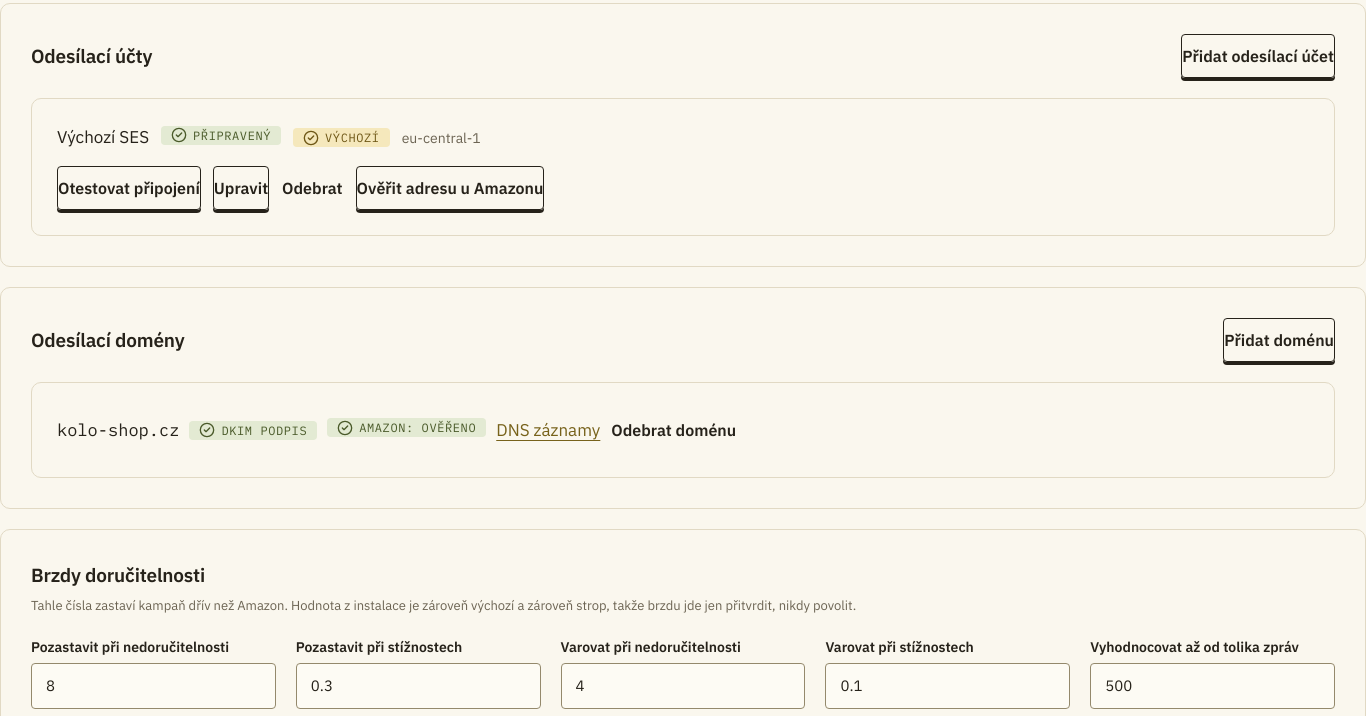
it: obrazovka nastavení odesílání › tlačítko Přidat doménu je i tam, kde už nějaká doména je, a taky otevírá dialog
Click the button with test id "add-domain". click: (1279, 340)
box: [1223, 318, 1335, 362]
(page scrolled)
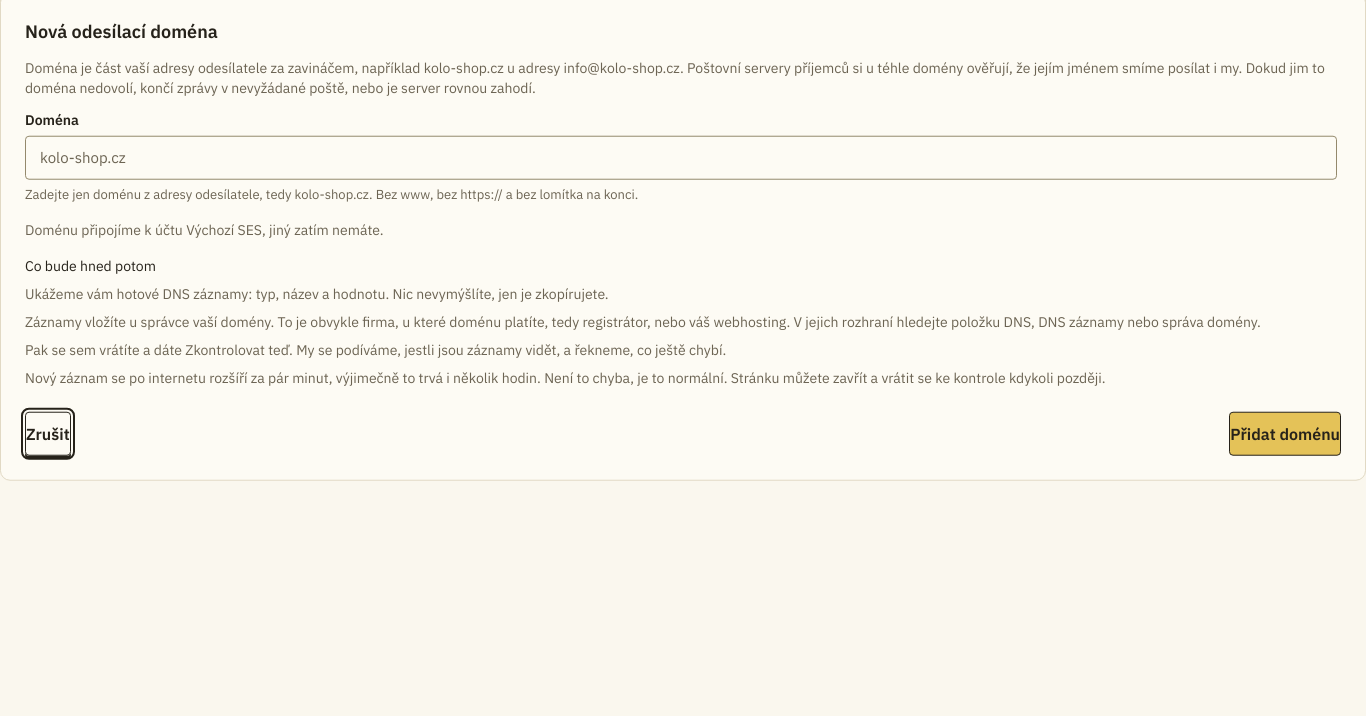
Check: the heading "Nová odesílací doména" is shown, box [25, 19, 218, 42]
